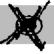not correct: (0, 2, 54, 50)
